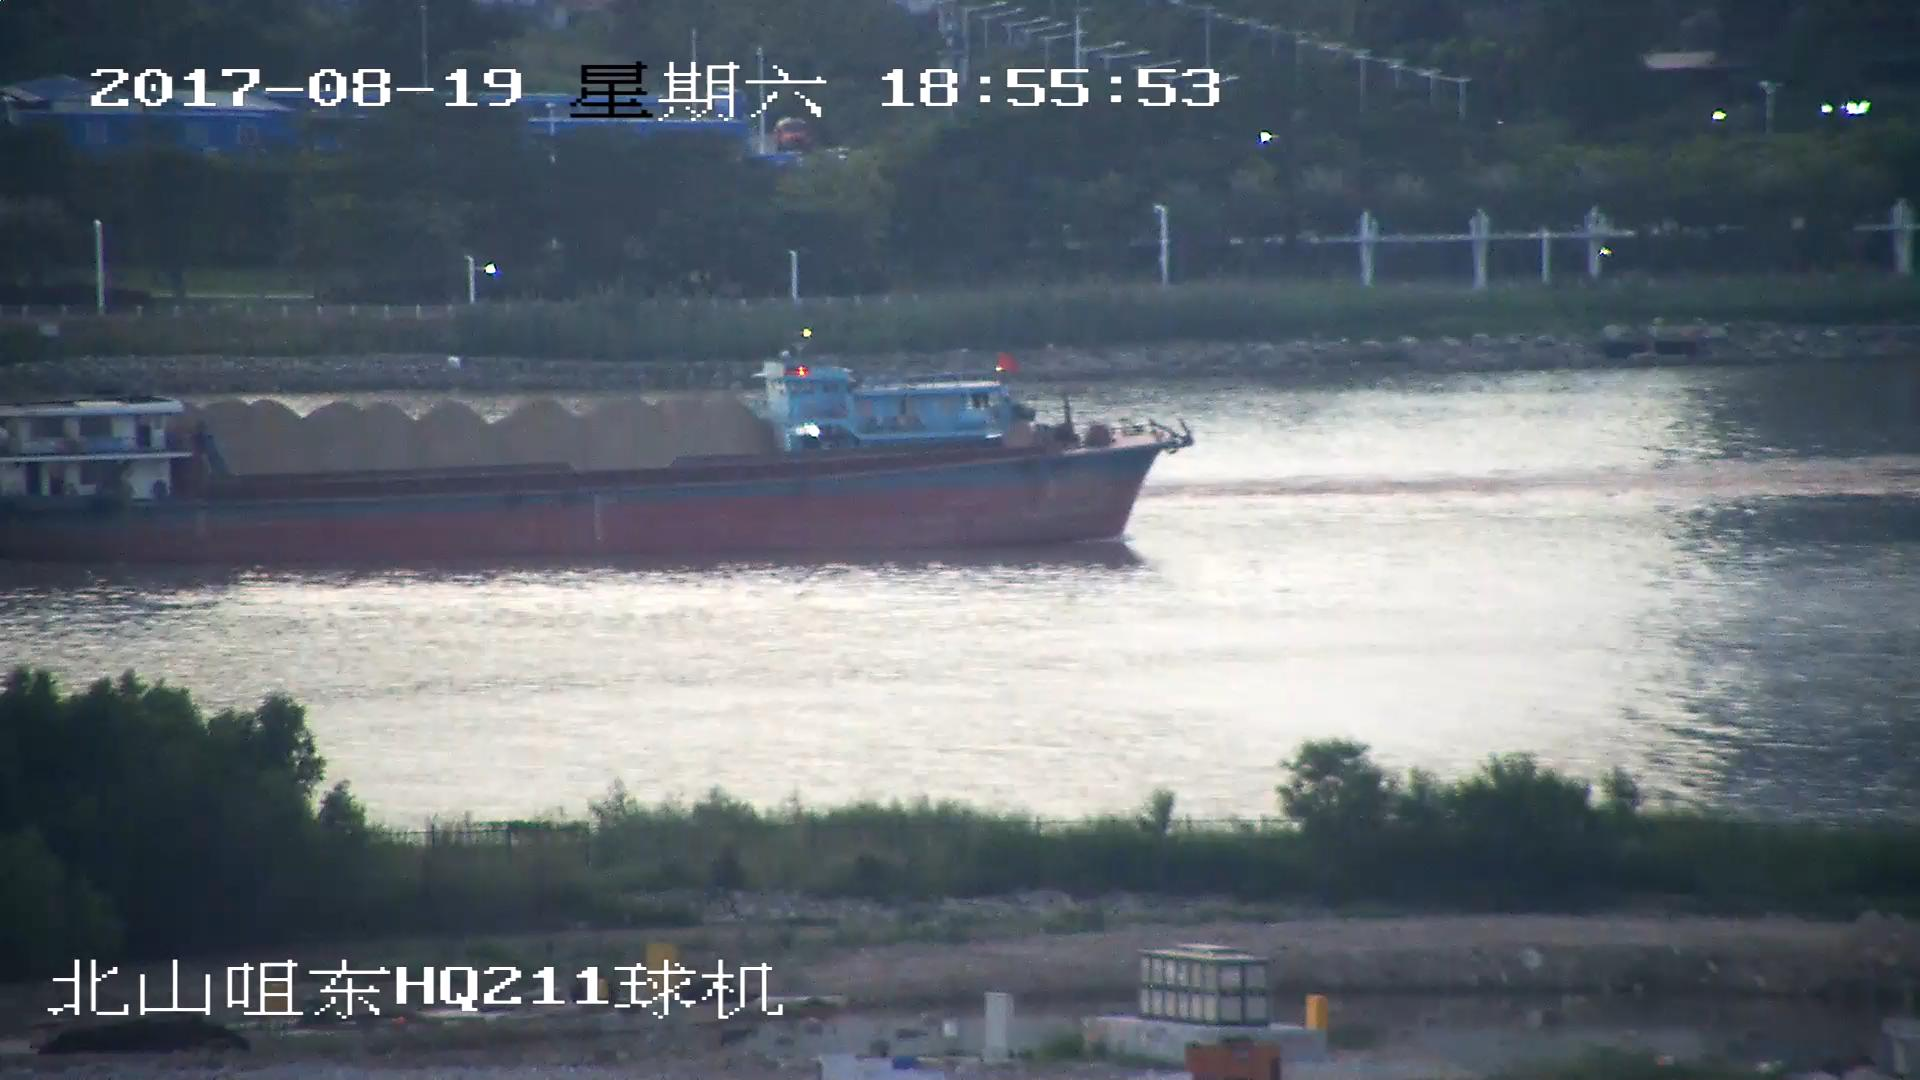bulk cargo carrier: (1, 399, 1200, 555)
ore carrier: (1, 354, 1024, 483)
